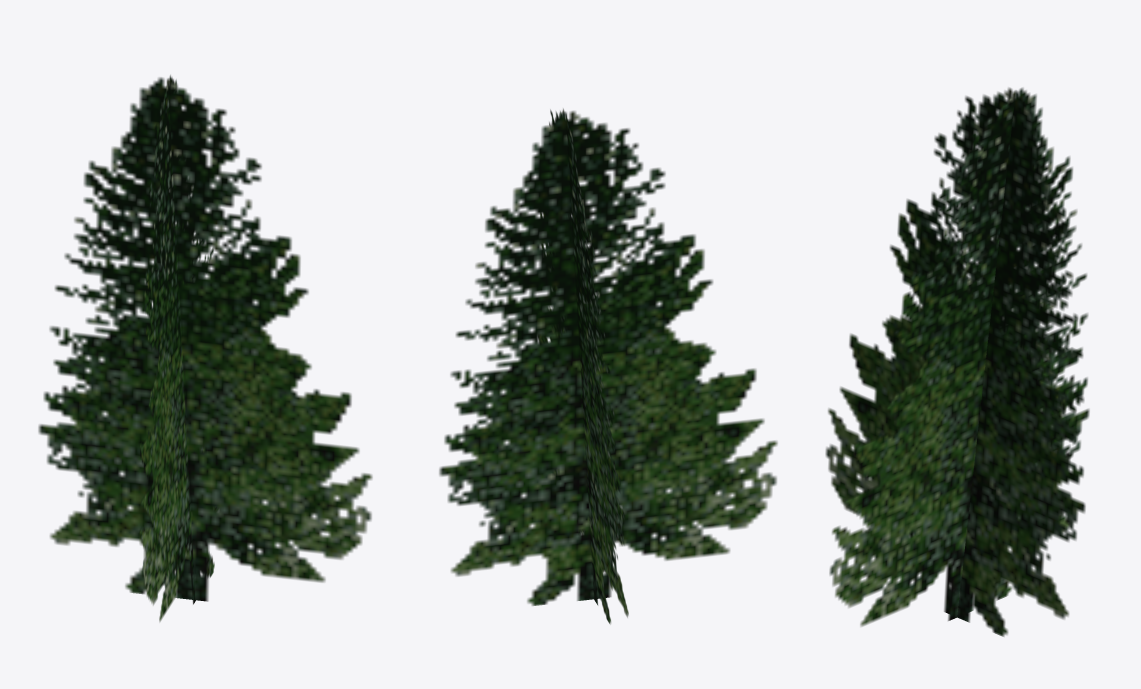
The model's file is tree061.glb.
3 views of the same model, side by side, from view 1: azimuth 30°, elevation 25°; view 2: azimuth 150°, elevation 25°; view 3: azimuth 270°, elevation 25° (orthographic). The views are drawn at different scales.
Parts seen in each view (by area): view 1: tree061; view 2: tree061; view 3: tree061.
Boxes of the visible parts, <box> form: tree061: <box>38,75,372,621</box>; tree061: <box>439,108,777,624</box>; tree061: <box>825,88,1089,636</box>.
Size of the model in its own units: 2.85 by 5.01 by 2.6.
Materials: 1 (1 with a texture image).
